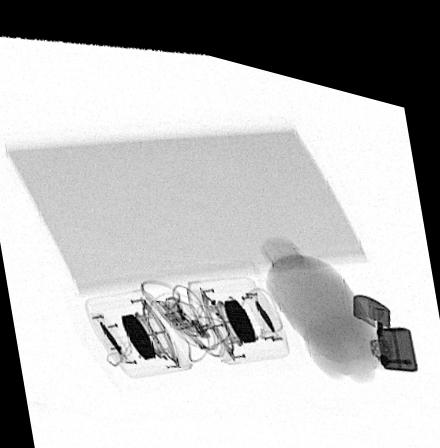Lighter: (352, 275, 418, 350)
